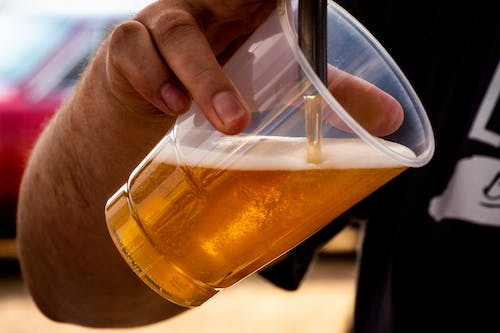alcohol: (104, 0, 436, 308)
